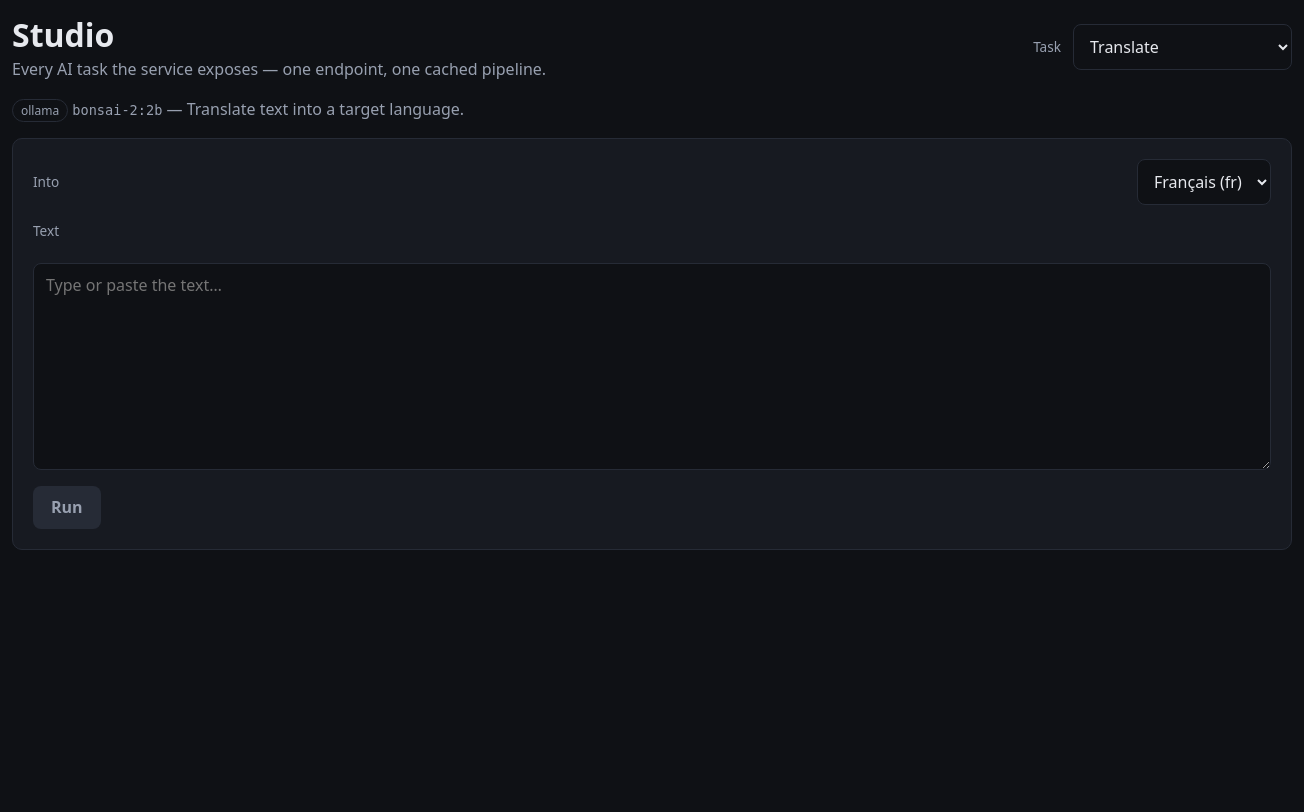
Test: Studio › shows the API message from an error response
The image size is (1304, 812).
Type "Hello" into the text box labelled "Text" at {"x": 652, "y": 366}, box [33,263,1271,470]
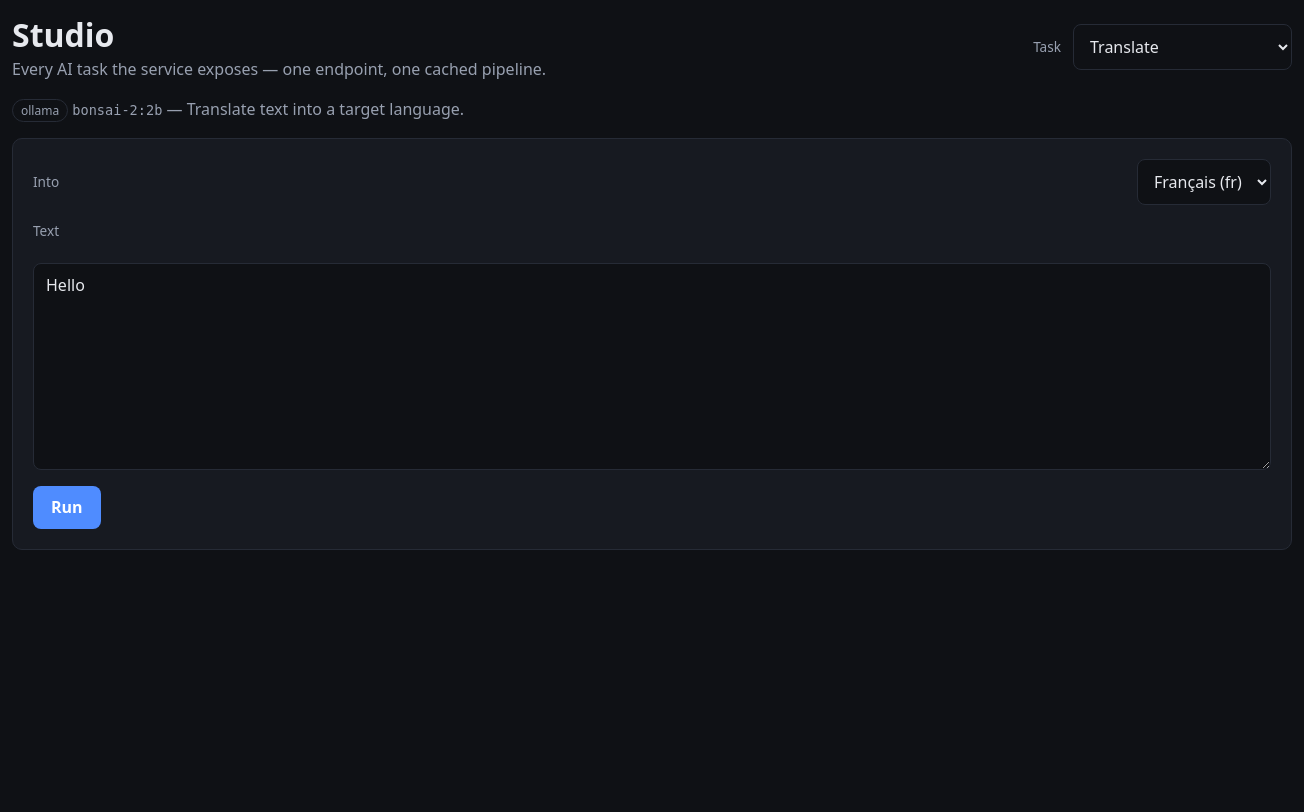
Click the button "Run" at {"x": 67, "y": 508}, box [33,486,101,529]
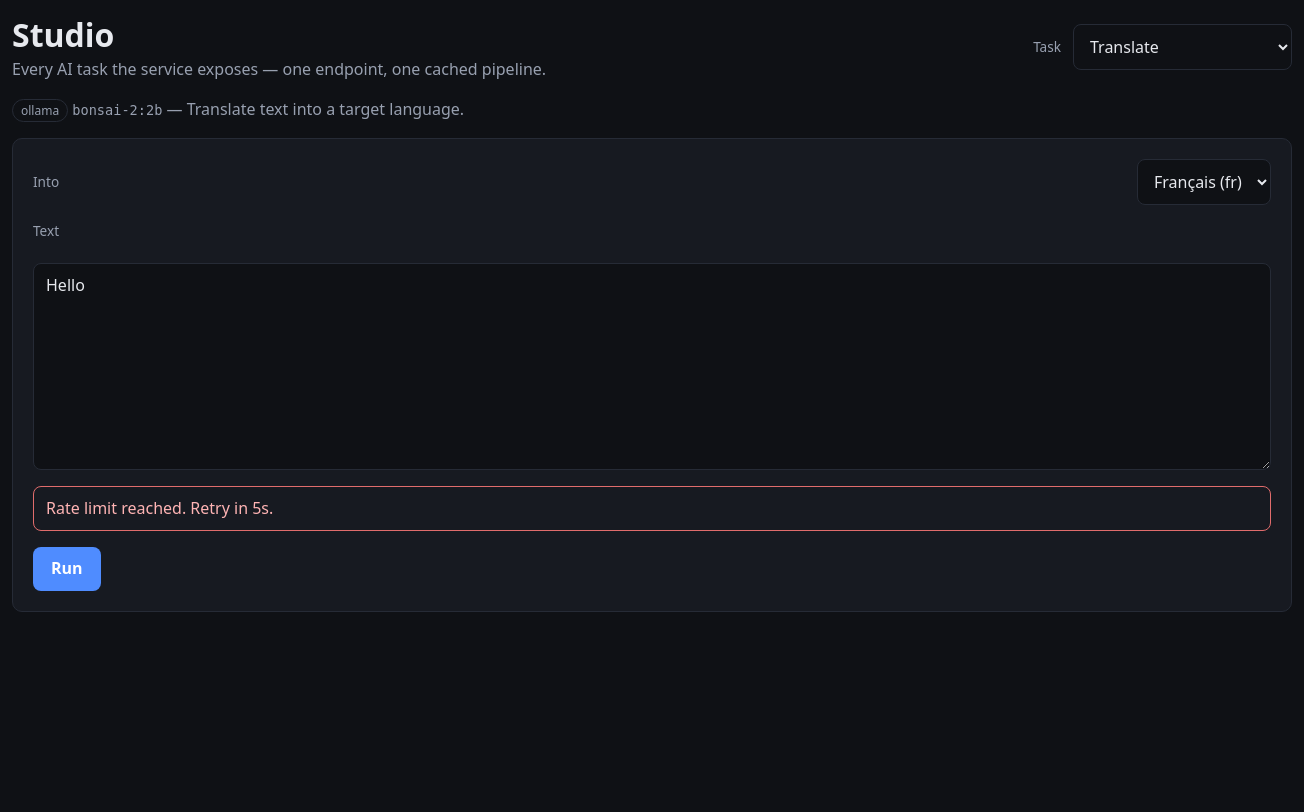
Result: the message reads "Rate limit reached. Retry in 5s." at [46,497,273,519]
